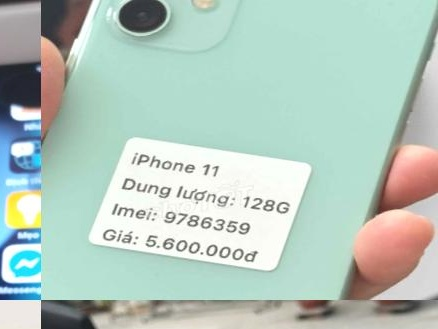screen_defect: (0, 38, 41, 127)
